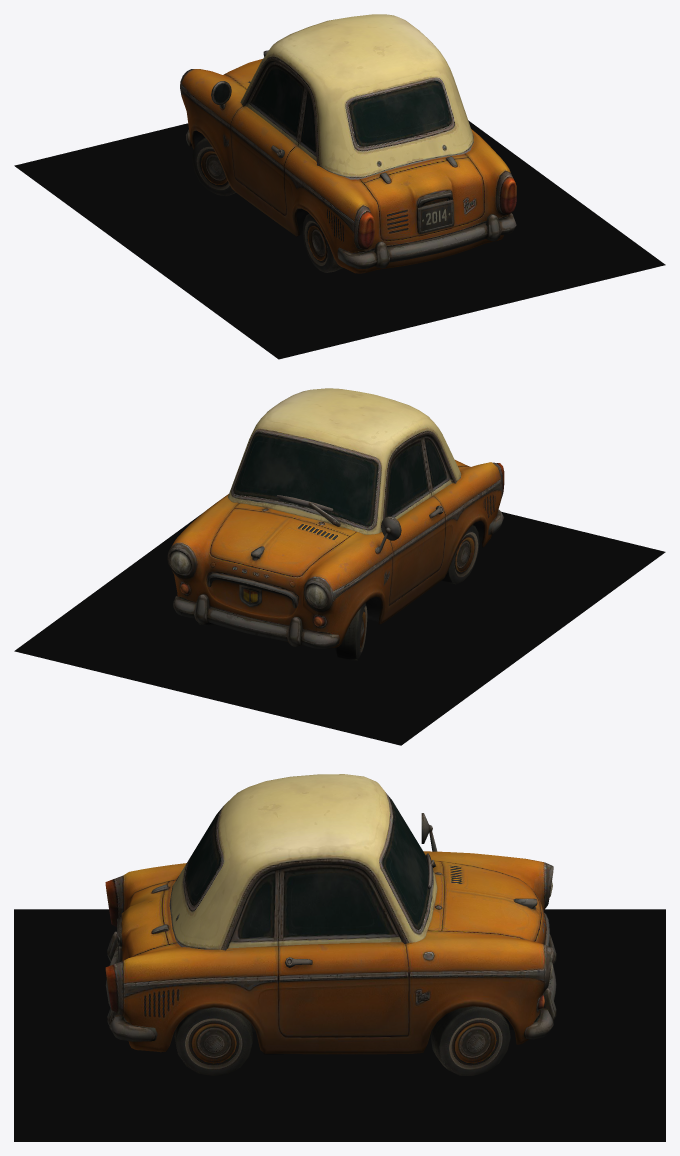
Rendered from skull.gltf.
3 views of the same model, one above another, from view 1: azimuth 30°, elevation 25°; view 2: azimuth 150°, elevation 25°; view 3: azimuth 270°, elevation 25° (orthographic). The views are drawn at different scales.
Parts seen in each view (by area): view 1: 3DGeom~1_Defintion#3, 3DGeom~3_Defintion, 3DGeom~2_Defintion; view 2: 3DGeom~1_Defintion#3, 3DGeom~3_Defintion, 3DGeom~2_Defintion; view 3: 3DGeom~3_Defintion, 3DGeom~1_Defintion#3, 3DGeom~2_Defintion.
Part boxes in pixels (<box>): 3DGeom~1_Defintion#3: <box>14,120,665,359</box>; 3DGeom~3_Defintion: <box>180,14,516,273</box>; 3DGeom~2_Defintion: <box>251,65,451,152</box>; 3DGeom~1_Defintion#3: <box>14,511,665,745</box>; 3DGeom~3_Defintion: <box>167,388,504,660</box>; 3DGeom~2_Defintion: <box>233,432,446,526</box>; 3DGeom~3_Defintion: <box>105,774,556,1075</box>; 3DGeom~1_Defintion#3: <box>14,909,665,1141</box>; 3DGeom~2_Defintion: <box>185,797,430,939</box>.
Size of the model in its own units: 812 by 375 by 961.
Materials: 4 (3 with a texture image).
